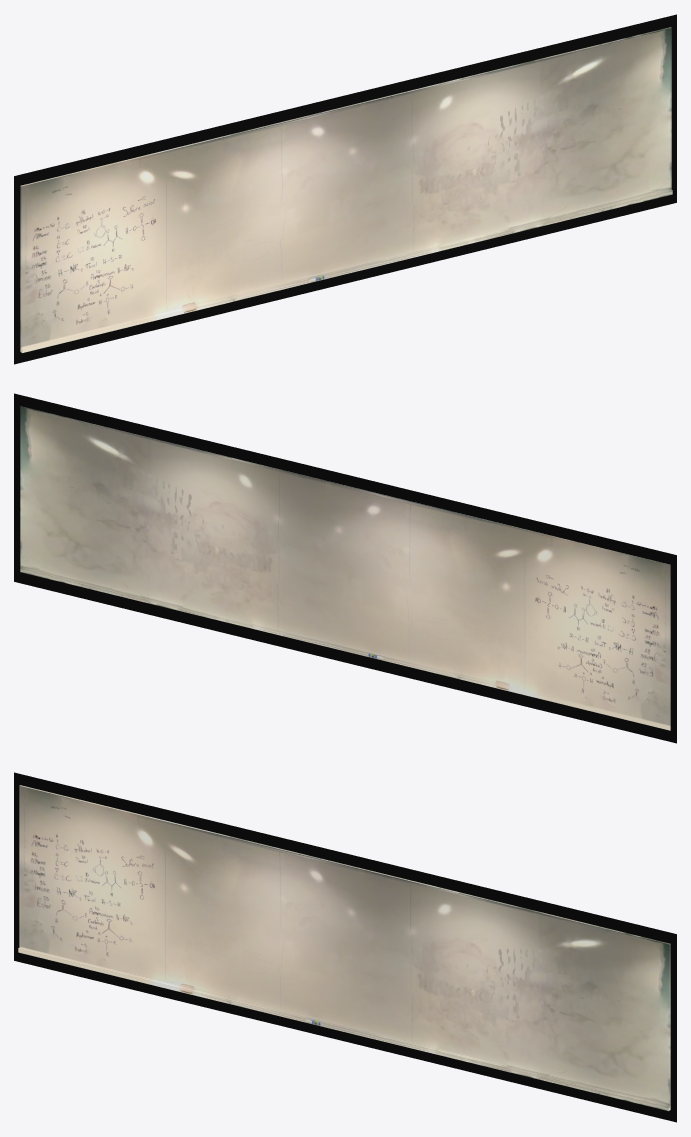
File: whiteboard.glb
3 views of the same model, one above another, from view 1: azimuth 30°, elevation 25°; view 2: azimuth 150°, elevation 25°; view 3: azimuth 330°, elevation 25° (orthographic).
Parts seen in each view (by area): view 1: board, shadow, frame; view 2: board, shadow, frame; view 3: board, shadow, frame.
Boxes of the visible parts, x1=… form: board: x1=22, y1=30, x2=669, y2=347; shadow: x1=14, y1=14, x2=676, y2=364; frame: x1=20, y1=27, x2=672, y2=353; board: x1=21, y1=408, x2=669, y2=725; shadow: x1=14, y1=393, x2=676, y2=743; frame: x1=20, y1=406, x2=670, y2=730; board: x1=21, y1=788, x2=668, y2=1105; shadow: x1=14, y1=772, x2=676, y2=1122; frame: x1=18, y1=785, x2=670, y2=1111.
Bounding box in the file's own units: 6.2 × 1.68 × 0.033.
2 materials, 2 textured.
